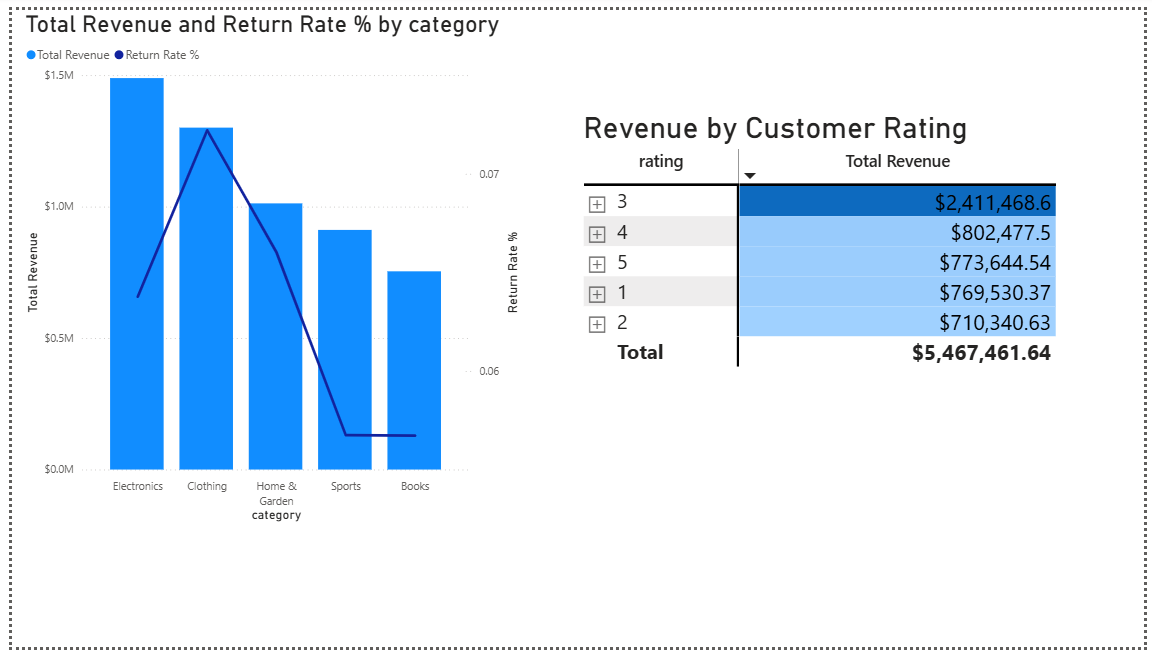

Layout of this report page (visuals, bound fields, positions):
{"tool":"powerbi","page":{"name":"Market&Product analysis","canvas":[1280,720],"ordinal":1},"visuals":[{"type":"lineStackedColumnComboChart","fields":{"Category":["ecommerce_preprocessed.category"],"Y":["ecommerce_preprocessed.Total Revenue"],"Y2":["ecommerce_preprocessed.Return Rate %"]},"box":[9.7,0,566.7,582.9],"z":0},{"type":"pivotTable","fields":{"Rows":["ecommerce_preprocessed.rating","ecommerce_preprocessed.city"],"Values":["ecommerce_preprocessed.Total Revenue"]},"box":[587.8,0,293.1,238],"z":1000}]}

Visuals, with their boxes in screenshot pixels (x1, y1, x2, y2), scaled from the page's 1280x720 canvas onto the 1152x652 screenshot:
lineStackedColumnComboChart - ecommerce_preprocessed.category x ecommerce_preprocessed.Total Revenue: left=9, top=0, right=519, bottom=528
pivotTable - ecommerce_preprocessed.rating x ecommerce_preprocessed.city: left=529, top=0, right=793, bottom=216
